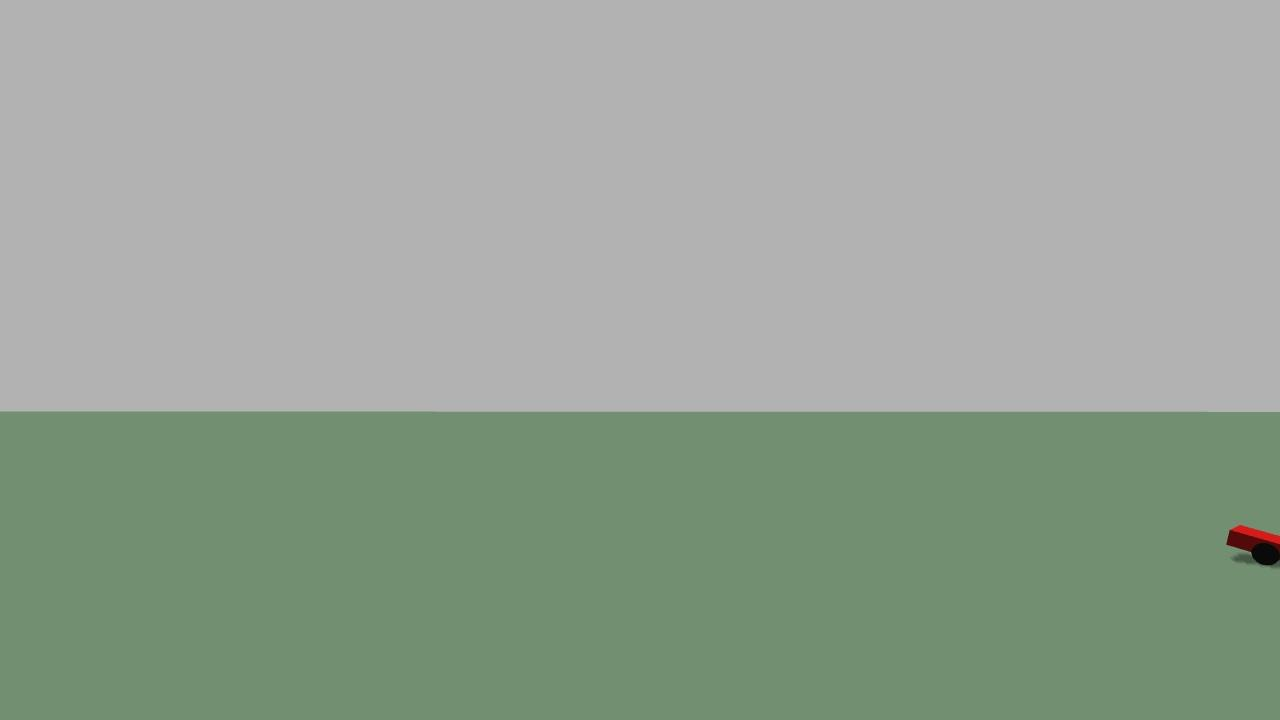ground_vehicle: (1217, 502, 1280, 575)
